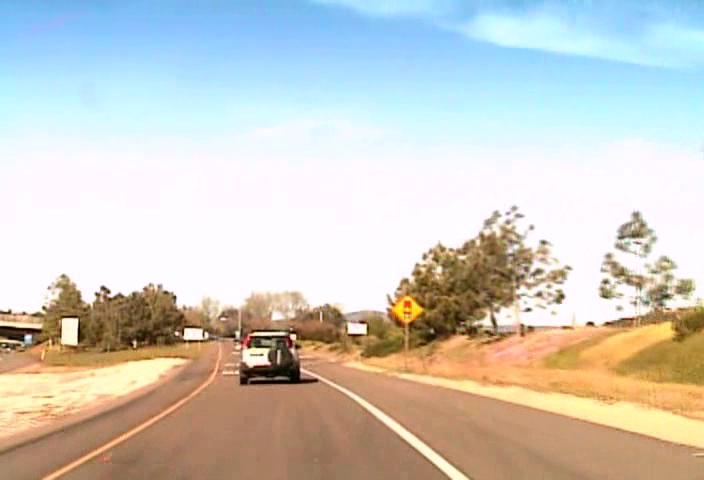signalAhead: (389, 292, 423, 325)
